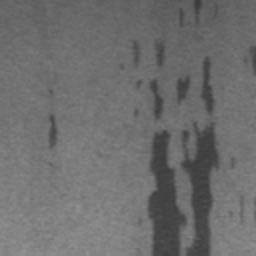Red iron sheet: (134, 55, 238, 256), (177, 0, 202, 29), (47, 113, 59, 150), (152, 38, 166, 68), (247, 45, 256, 78), (132, 40, 141, 67), (132, 108, 141, 119)
